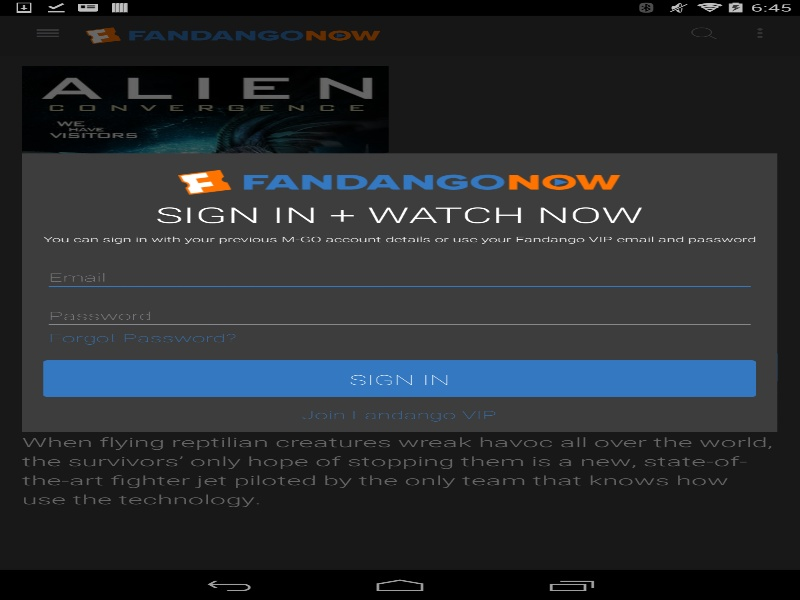Button: (43, 360, 756, 396)
Input: (43, 301, 756, 330), (43, 263, 756, 291)
